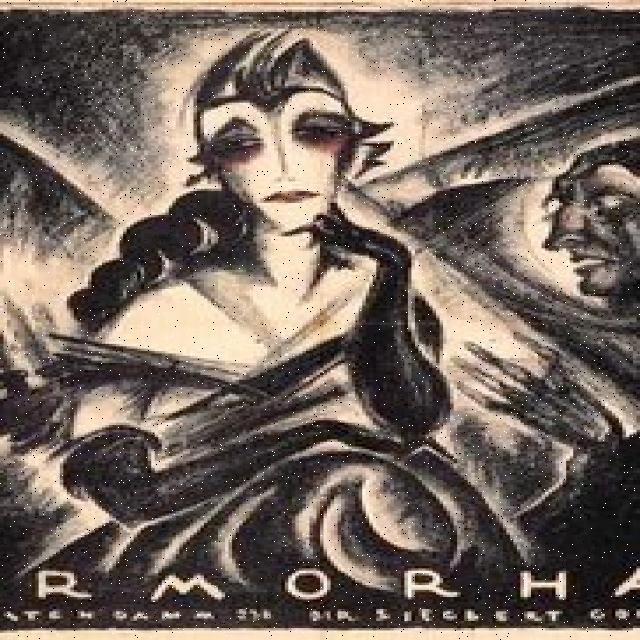movie-judul: (0, 566, 640, 640)
picture: (67, 33, 593, 541)
